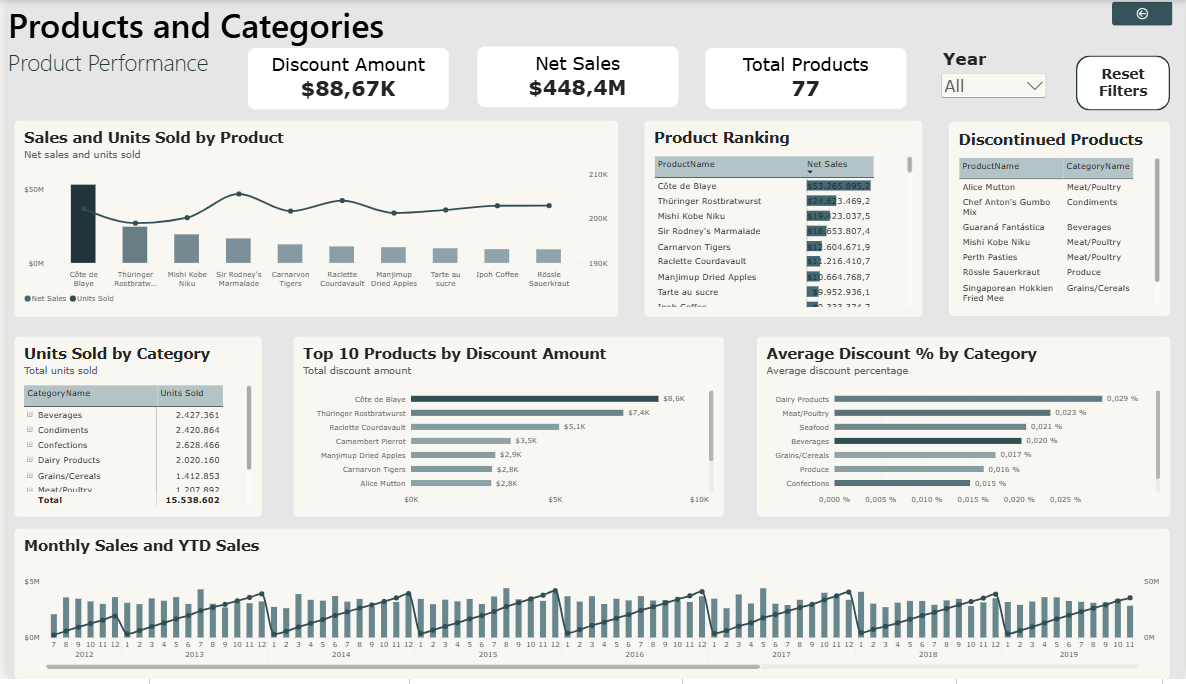

Layout of this report page (visuals, bound fields, positions):
{"tool":"powerbi","page":{"name":"Products and Categories","canvas":[1920,1080],"ordinal":1},"visuals":[{"type":"tableEx","title":"Product Ranking","fields":{"Values":["DimProduct.ProductName","ImportantMeasures.NetSales","ImportantMeasures.ProductRanking"]},"box":[978.2,188.5,594.1,362.7],"z":0},{"type":"lineClusteredColumnComboChart","title":"Sales and Units Sold by Product","fields":{"Category":["DimProduct.ProductName"],"Y":["ImportantMeasures.NetSales"],"Y2":["ImportantMeasures.UnitsSold"]},"box":[28.6,198,949.6,362.7],"z":1000},{"type":"pivotTable","title":"Units Sold by Category and Product","fields":{"Rows":["DimProduct.CategoryName Hierarchy.CategoryName","DimProduct.CategoryName Hierarchy.ProductName"],"Values":["ImportantMeasures.UnitsSold"]},"box":[54.9,618,357.9,410.4],"z":2000},{"type":"lineStackedColumnComboChart","title":"Monthly Sales and YTD Sales","fields":{"Category":["DimDate.YearMonth"],"Y":["ImportantMeasures.Net Sales"],"Y2":["ImportantMeasures.SalesYTD"]},"box":[959.1,618,911.4,410.4],"z":3000},{"type":"actionButton","box":[1820.5,2.4,100,40],"z":4000},{"type":"tableEx","title":"Discontinued Products","fields":{"Values":["DimProduct.ProductName","DimProduct.CategoryName"]},"box":[1534.1,188.5,386.5,350.7],"z":5000},{"type":"actionButton","title":"Reset Filters","box":[1765.6,59.6,155.1,90.7],"z":6000},{"type":"slicer","fields":{"Values":["DimDate.Year"]},"box":[1484,35.8,242.5,125],"z":7000},{"type":"tableEx","title":"Discount by Product","fields":{"Values":["DimProduct.ProductName","ImportantMeasures.Discount%"]},"box":[462.9,618,474.8,410.4],"z":8000},{"type":"textbox","box":[0,0,793,150],"z":9000},{"type":"cardVisual","fields":{"Data":["ImportantMeasures.DiscountAmount"]},"box":[1071.3,26.2,381.7,133.6],"z":10000},{"type":"cardVisual","fields":{"Data":["ImportantMeasures.NetSales"]},"box":[649,26.2,386.5,133.6],"z":11000}]}

Visuals, with their boxes in screenshot pixels (x1, y1, x2, y2), scaled from the page's 1920x1080 canvas onto the 1186x684 screenshot:
"Product Ranking" tableEx: select_region(604, 119, 971, 349)
"Sales and Units Sold by Product" lineClusteredColumnComboChart: select_region(18, 125, 604, 355)
"Units Sold by Category and Product" pivotTable: select_region(34, 391, 255, 651)
"Monthly Sales and YTD Sales" lineStackedColumnComboChart: select_region(592, 391, 1155, 651)
actionButton: select_region(1125, 2, 1185, 27)
"Discontinued Products" tableEx: select_region(948, 119, 1185, 341)
"Reset Filters" actionButton: select_region(1091, 38, 1185, 95)
slicer - DimDate.Year: select_region(917, 23, 1066, 102)
"Discount by Product" tableEx: select_region(286, 391, 579, 651)
textbox: select_region(0, 0, 490, 95)
cardVisual - ImportantMeasures.DiscountAmount: select_region(662, 17, 898, 101)
cardVisual - ImportantMeasures.NetSales: select_region(401, 17, 640, 101)
